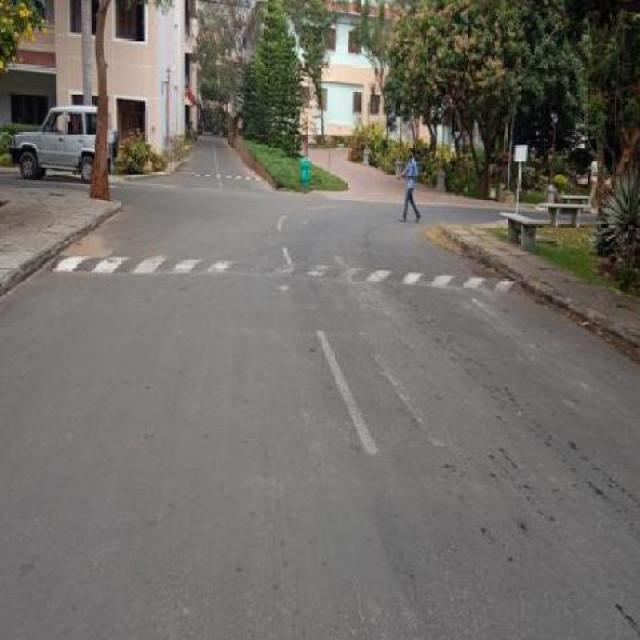Speed Bump: (48, 249, 523, 292)
